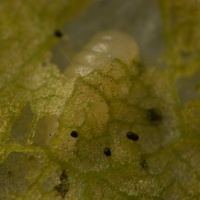insect: (126, 131, 138, 140)
